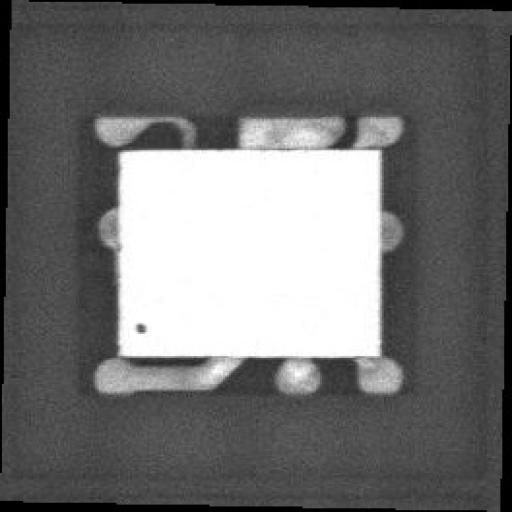DIE_INK: (124, 332, 141, 351)
